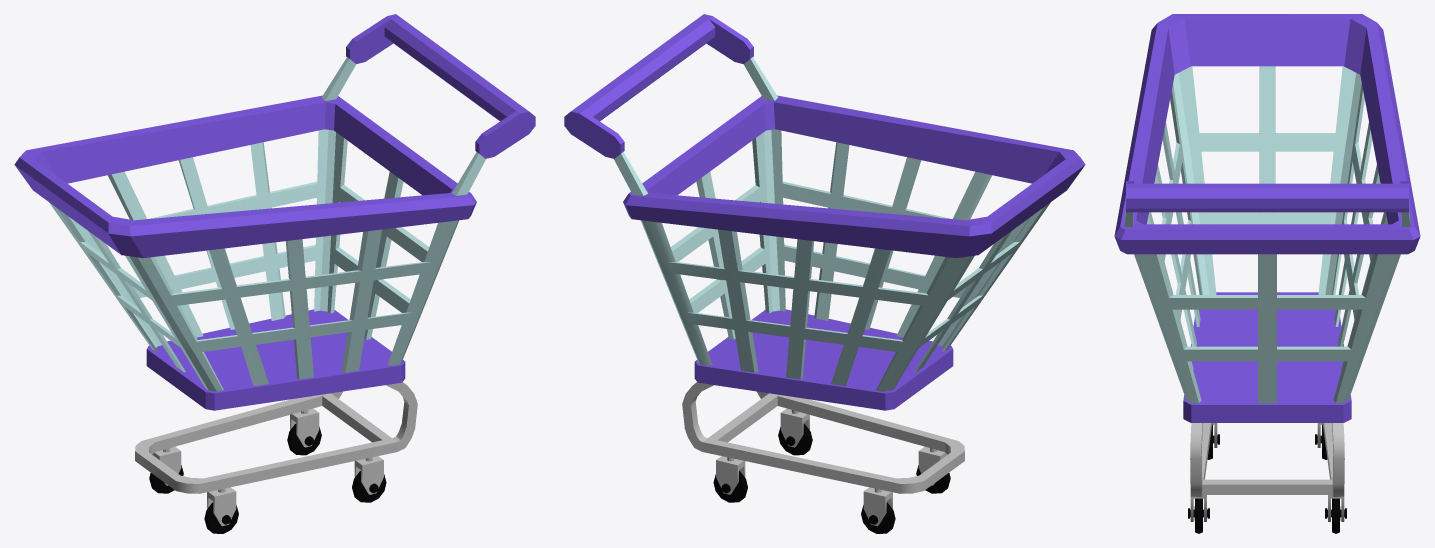
The model's file is Obstale_Cart.fbx.
3 views of the same model, side by side, from view 1: azimuth 30°, elevation 25°; view 2: azimuth 150°, elevation 25°; view 3: azimuth 270°, elevation 25° (orthographic). The views are drawn at different scales.
Parts seen in each view (by area): view 1: Cart22; view 2: Cart22; view 3: Cart22.
Part boxes in pixels (x1=…): Cart22: x1=14, y1=14, x2=535, y2=533; Cart22: x1=564, y1=14, x2=1085, y2=533; Cart22: x1=1114, y1=14, x2=1420, y2=533.
Size of the model in its own units: 83.74 by 75.7 by 51.35.
